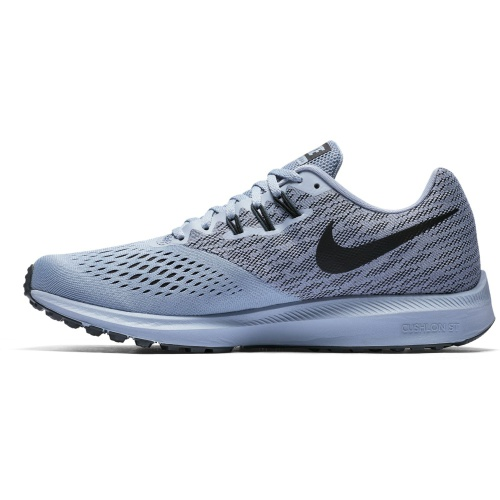nike: (311, 211, 464, 277)
